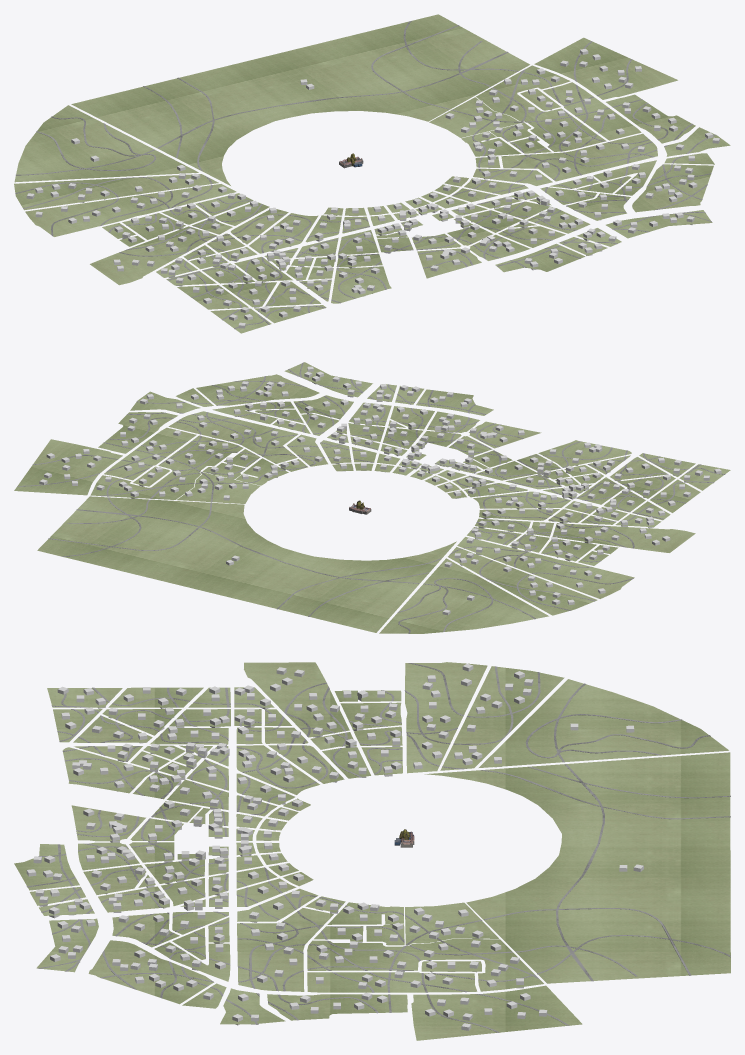
The model's file is museums.glb.
3 views of the same model, one above another, from view 1: azimuth 30°, elevation 25°; view 2: azimuth 150°, elevation 25°; view 3: azimuth 270°, elevation 25° (orthographic). The views are drawn at different scales.
Visible parts, largest first — view 1: ground_museums_81, ground_museums_82, ground_museums_93, ground_museums_49, ground_museums_76, ground_museums_48, ground_museums_68, ground_museums_53, ground_museums_83, ground_museums_78, streets_museums_81, ground_museums_92 (+29 smaller); view 2: ground_museums_81, ground_museums_82, ground_museums_93, ground_museums_49, ground_museums_76, ground_museums_48, ground_museums_68, ground_museums_53, ground_museums_83, ground_museums_78, streets_museums_81, ground_museums_92 (+30 smaller); view 3: ground_museums_81, ground_museums_82, ground_museums_93, ground_museums_49, ground_museums_76, ground_museums_48, ground_museums_68, ground_museums_53, ground_museums_83, ground_museums_78, streets_museums_81, ground_museums_92 (+38 smaller).
Boxes of the visible parts, x1,y1,x2,y2 form: ground_museums_81: [71, 14, 529, 185]; ground_museums_82: [14, 105, 198, 182]; ground_museums_93: [534, 37, 677, 99]; ground_museums_49: [25, 184, 236, 236]; ground_museums_76: [476, 65, 606, 151]; ground_museums_48: [14, 174, 218, 210]; ground_museums_68: [501, 133, 657, 181]; ground_museums_53: [90, 226, 216, 285]; ground_museums_83: [632, 164, 713, 212]; ground_museums_78: [543, 82, 641, 140]; streets_museums_81: [143, 21, 518, 170]; ground_museums_92: [606, 94, 695, 143]; ground_museums_81: [37, 496, 456, 632]; ground_museums_82: [379, 558, 548, 633]; ground_museums_93: [14, 439, 122, 495]; ground_museums_49: [457, 537, 634, 598]; ground_museums_76: [90, 435, 243, 499]; ground_museums_48: [448, 547, 597, 615]; ground_museums_68: [168, 411, 298, 463]; ground_museums_53: [552, 523, 695, 552]; ground_museums_83: [196, 374, 319, 405]; ground_museums_78: [104, 427, 196, 480]; streets_museums_81: [48, 497, 441, 616]; ground_museums_92: [98, 412, 177, 453]; ground_museums_81: [424, 752, 730, 983]; ground_museums_82: [479, 679, 728, 767]; ground_museums_93: [411, 985, 582, 1040]; ground_museums_49: [405, 662, 487, 773]; ground_museums_76: [307, 939, 543, 991]; ground_museums_48: [440, 666, 564, 770]; ground_museums_68: [237, 908, 333, 991]; ground_museums_53: [244, 662, 349, 737]; ground_museums_83: [88, 940, 213, 1004]; ground_museums_78: [307, 972, 477, 992]; streets_museums_81: [480, 764, 730, 981]; ground_museums_92: [267, 994, 407, 1020].
Bounding box in the file's own units: 11.64 × 0.2584 × 9.31.
Materials: 8 (8 with a texture image).
